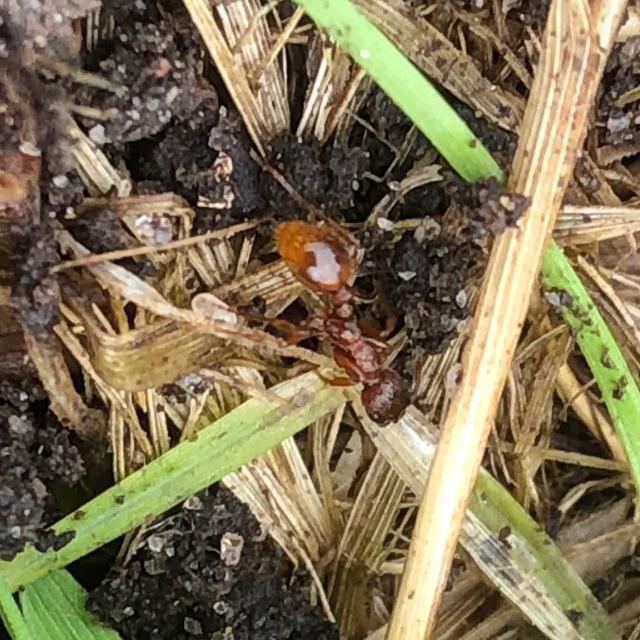Myrmica: (233, 192, 472, 450)
